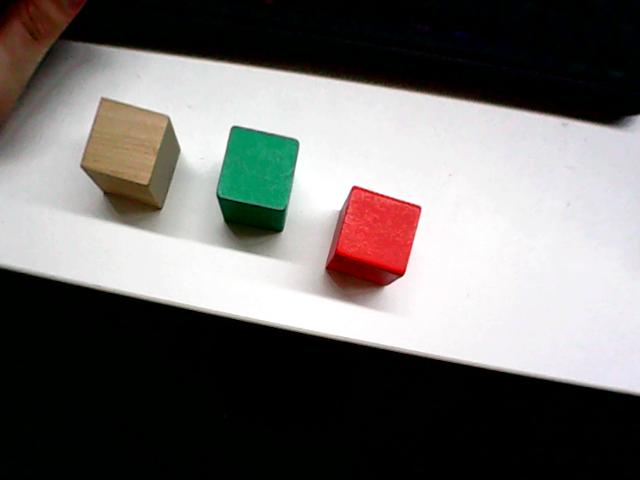green_box: (213, 121, 301, 234)
raw_box: (78, 93, 182, 211)
red_box: (322, 180, 424, 290)
